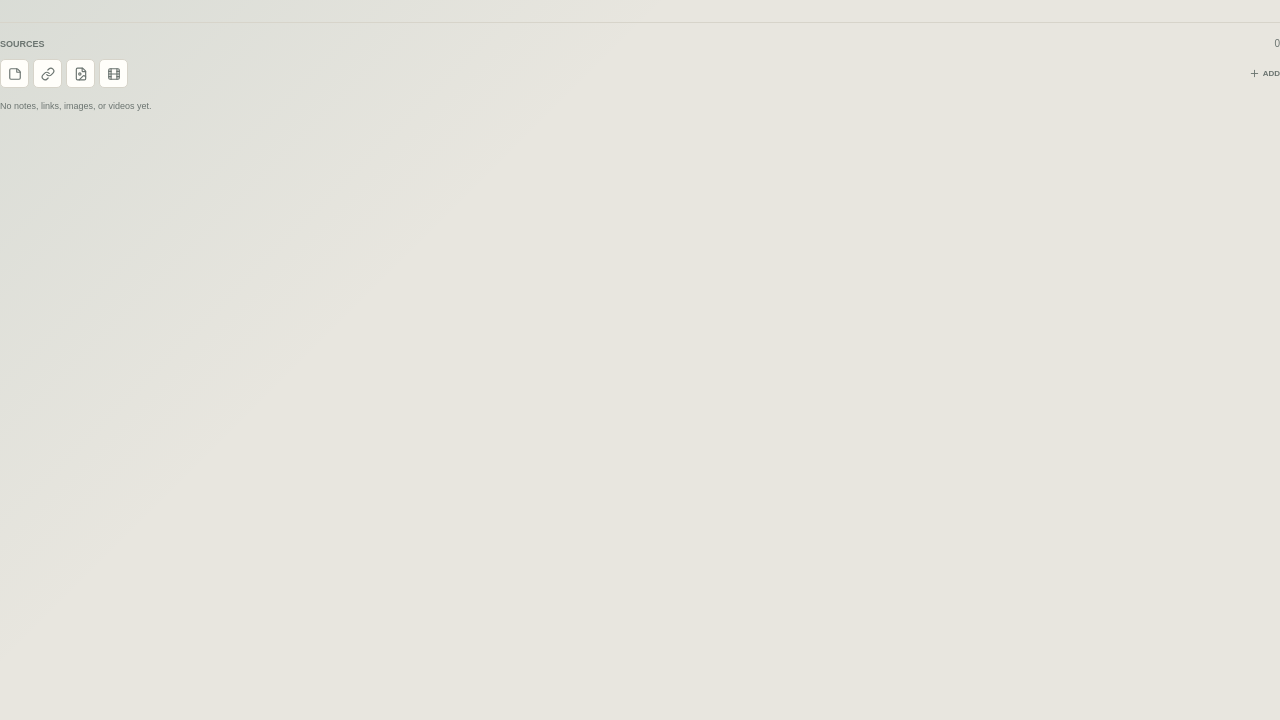
Test case: attachment links › leaves the title empty when the clipboard contains only a URL
Click the button named "Add link" at (48, 74), box [33,59,62,88]
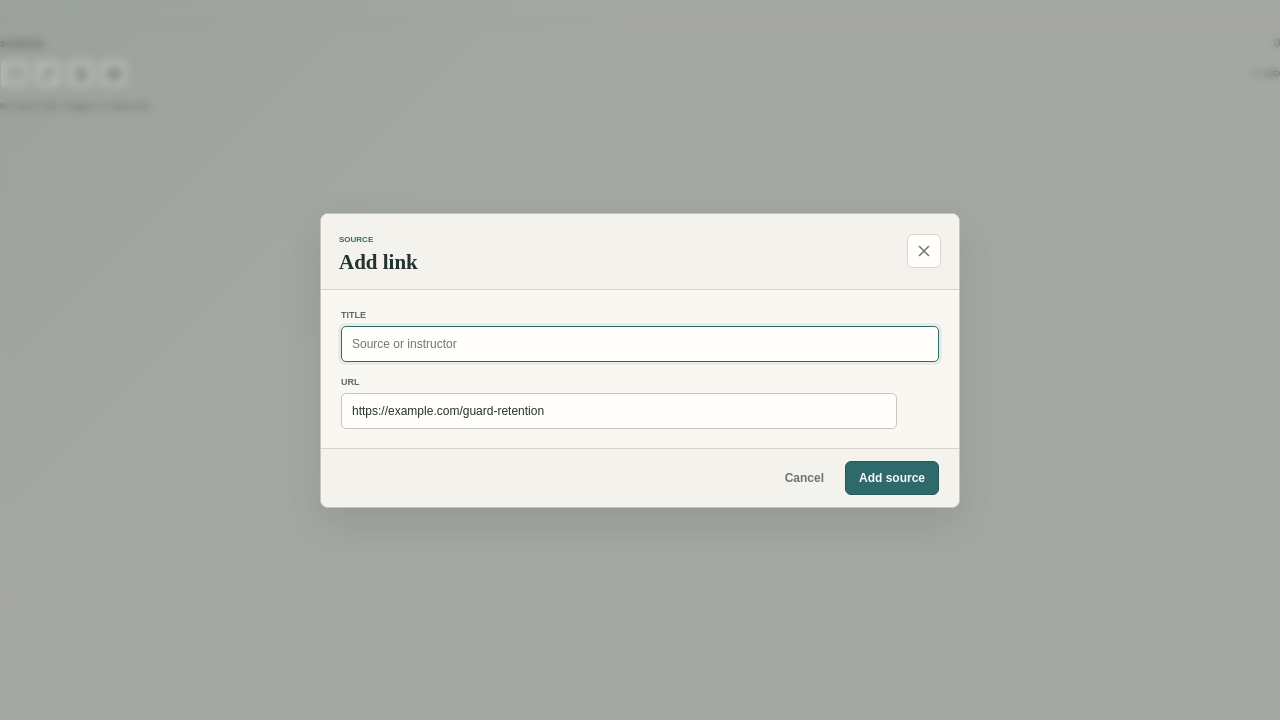
Result: the field labelled "URL" holds "https://example.com/guard-retention" at [341,392,897,428]
Result: the field labelled "Title" is empty at [341,326,939,362]
